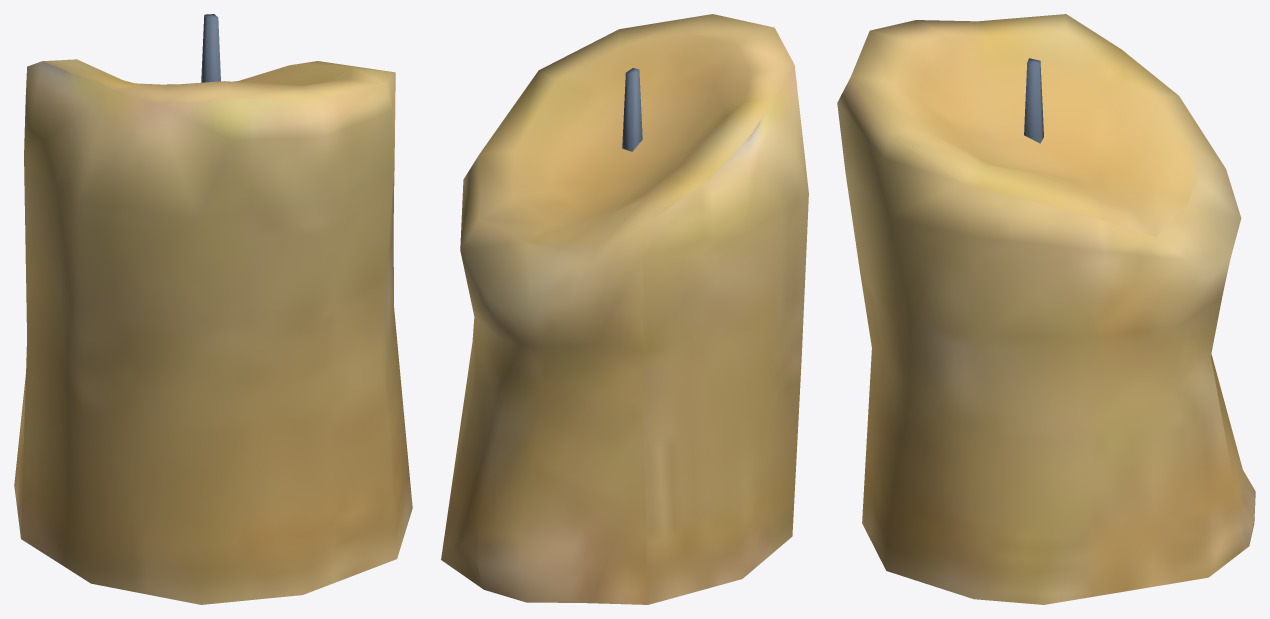
Rendered from quaternius-fantasy-props-candle-1.glb.
3 views of the same model, side by side, from view 1: azimuth 30°, elevation 25°; view 2: azimuth 150°, elevation 25°; view 3: azimuth 270°, elevation 25° (orthographic). The views are drawn at different scales.
Visible parts, largest first — view 1: Candle_1; view 2: Candle_1; view 3: Candle_1.
Boxes of the visible parts, x1,y1,x2,y2 form: Candle_1: (14,14,412,604); Candle_1: (441,14,808,604); Candle_1: (837,14,1255,604).
Size of the model in its own units: 0.128 by 0.18 by 0.1471.
1 material, 1 textured.
